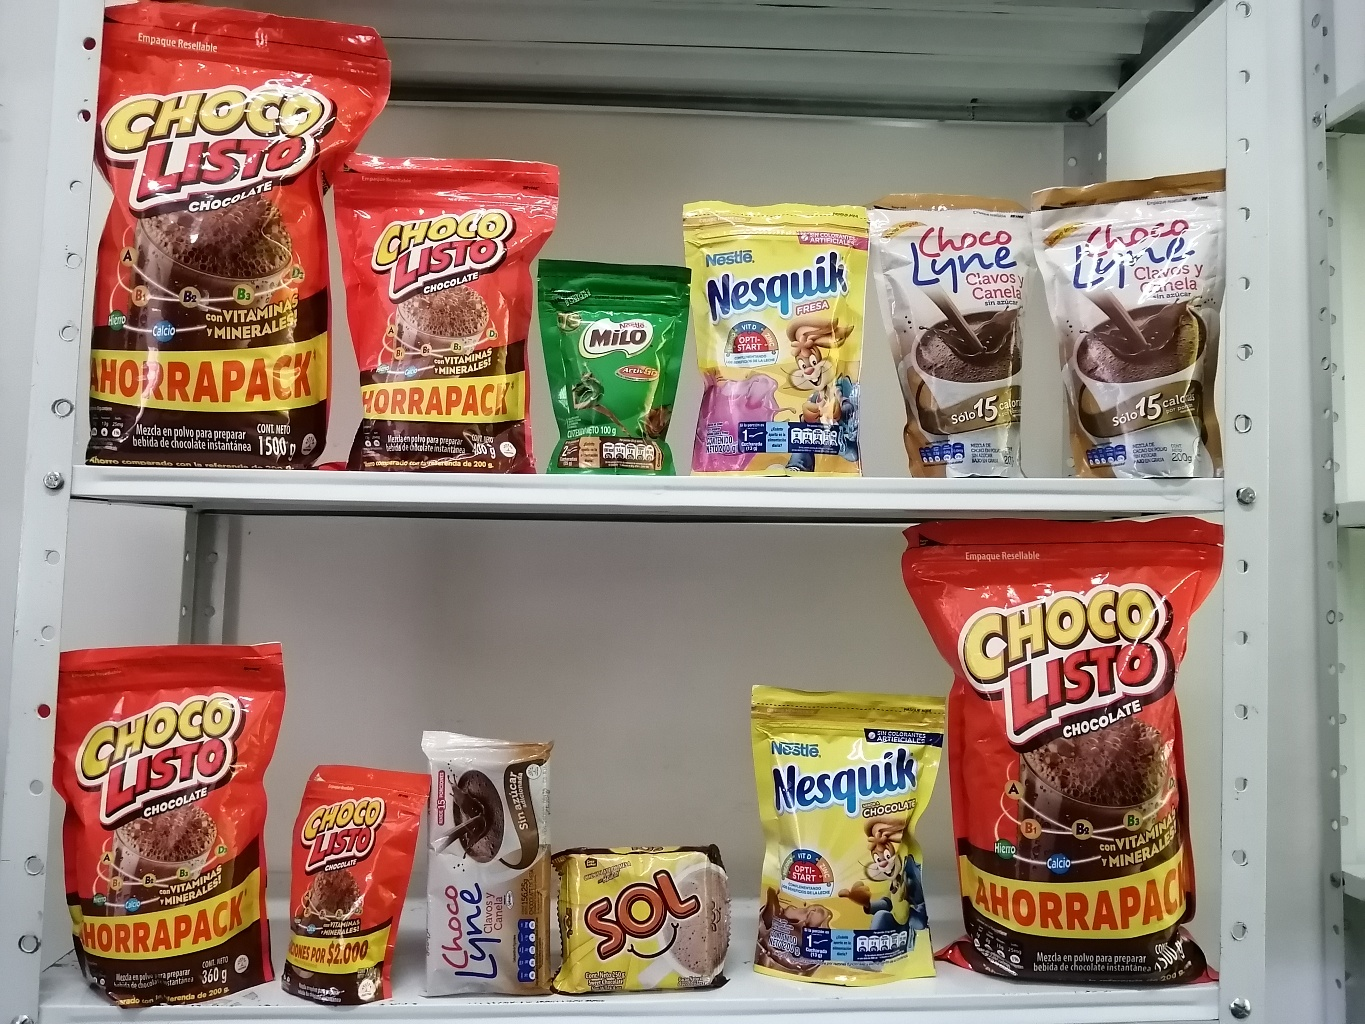COL0170103DYP1,500: (97, 4, 387, 475)
COL0170103DYP10000: (281, 746, 428, 1014)
COL0170103DYP36000: (39, 641, 295, 1006)
COL0170103DYP40000: (331, 140, 569, 471)
COL0170203DYP10000: (526, 254, 683, 471)
COL0170305DYP20000: (681, 187, 878, 479)
COL0170306DYP20000: (739, 675, 945, 986)
